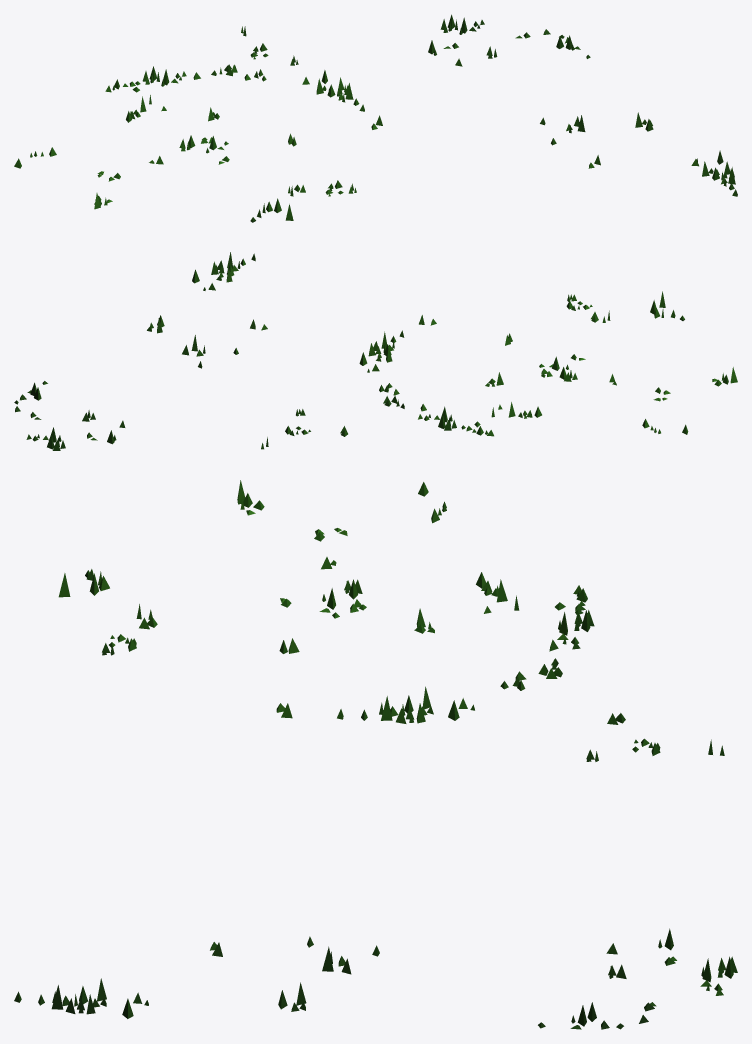
Rendered from Plant_01.FBX.
The picture shows the model from 3 angles, top to bottom: view 1: azimuth 30°, elevation 25°; view 2: azimuth 150°, elevation 25°; view 3: azimuth 270°, elevation 25°; orthographic projection. The views are drawn at different scales.
Visible parts, largest first — view 1: Plant_01; view 2: Plant_01; view 3: Plant_01.
Boxes of the visible parts, x1=… form: Plant_01: x1=14, y1=14, x2=737, y2=222; Plant_01: x1=14, y1=252, x2=737, y2=450; Plant_01: x1=14, y1=480, x2=737, y2=1029.
Bounding box in the file's own units: 35.46 × 4.8 × 24.82.
